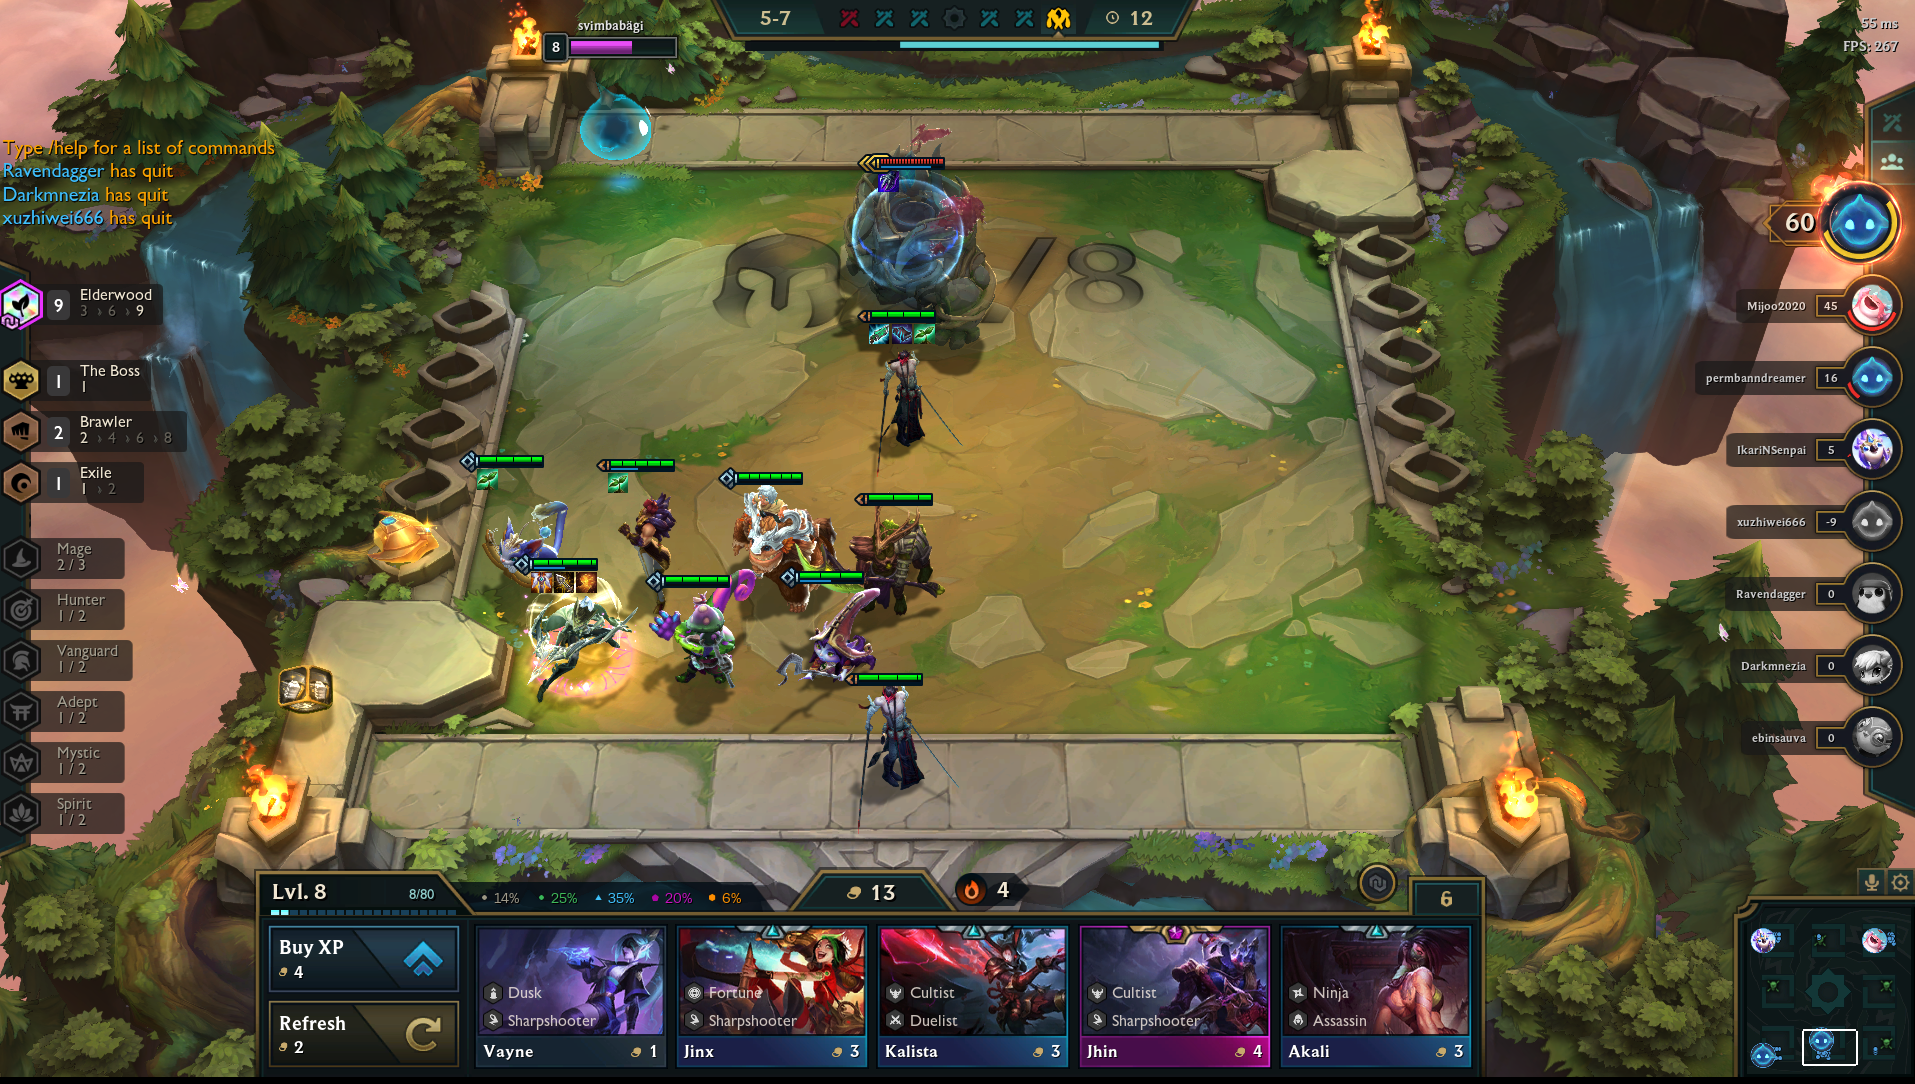1star_hecarim: (773, 479, 954, 630)
1star_sett: (593, 446, 694, 624)
1star_yone: (852, 304, 984, 485), (839, 660, 972, 830)
2star_ashe: (498, 545, 651, 733)
2star_ashe_chosen: (497, 542, 648, 731)
2star_lulu: (759, 555, 896, 706)
2star_nunu: (704, 458, 844, 624)
2star_veigar: (637, 562, 767, 721)
2star_yuumi: (452, 445, 584, 604)
item_elderwood: (602, 466, 629, 496), (911, 320, 936, 350), (473, 464, 498, 495)
item_ga: (527, 567, 554, 597)
item_gunblade: (865, 318, 890, 349)
item_hoj: (573, 566, 598, 596)
item_ie: (550, 568, 576, 599)
item_morello: (889, 318, 915, 349)
item_trapclaw: (875, 164, 901, 195)
trait_adept1: (1, 680, 143, 734)
trait_brawler2: (1, 405, 201, 456)
trait_elderwood9: (1, 272, 201, 335)
trait_elderwood_chosen: (1, 274, 46, 335)
trait_exile1: (1, 456, 201, 508)
trait_hunter1: (1, 581, 143, 635)
trait_mage2: (1, 531, 143, 585)
trait_mystic1: (1, 735, 143, 789)
trait_spirit1: (1, 785, 143, 839)
trait_theboss1: (1, 353, 201, 405)
trait_vanguard1: (1, 635, 143, 689)
